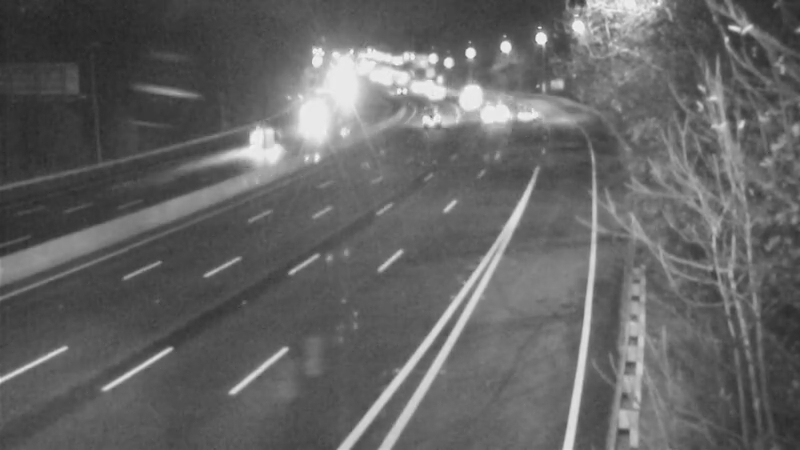vehicle: (449, 77, 499, 127), (468, 87, 518, 137), (500, 90, 550, 140), (402, 92, 452, 142), (236, 110, 286, 160), (291, 92, 341, 142)
